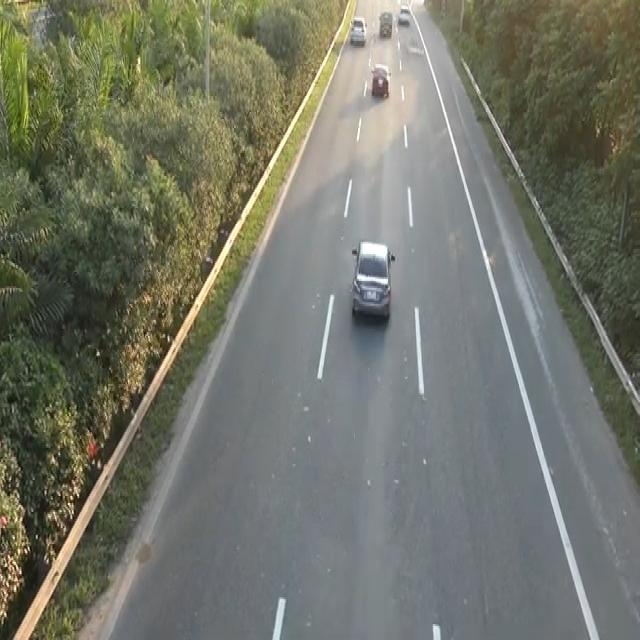bus: (348, 235, 398, 329)
